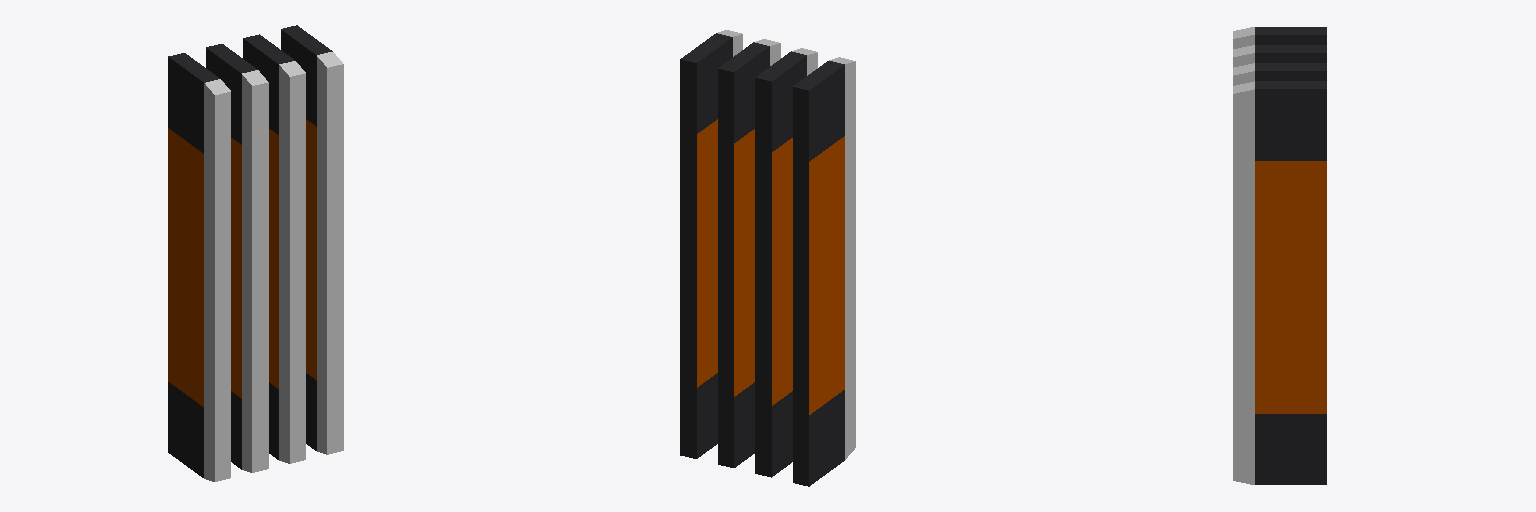
3 renders of one model, left to right at view 1: azimuth 30°, elevation 25°; view 2: azimuth 150°, elevation 25°; view 3: azimuth 270°, elevation 25°, orthographic.
Parts seen in each view (by area): view 1: RAM_Cube.190; view 2: RAM_Cube.190; view 3: RAM_Cube.190.
Boxes of the visible parts, box(x1,y1,x2,y2) form: RAM_Cube.190: box(168, 25, 343, 481); RAM_Cube.190: box(680, 30, 855, 486); RAM_Cube.190: box(1233, 27, 1326, 484).
Bounding box in the file's own units: 1.24 × 3.65 × 0.7799.
3 materials, 1 textured.